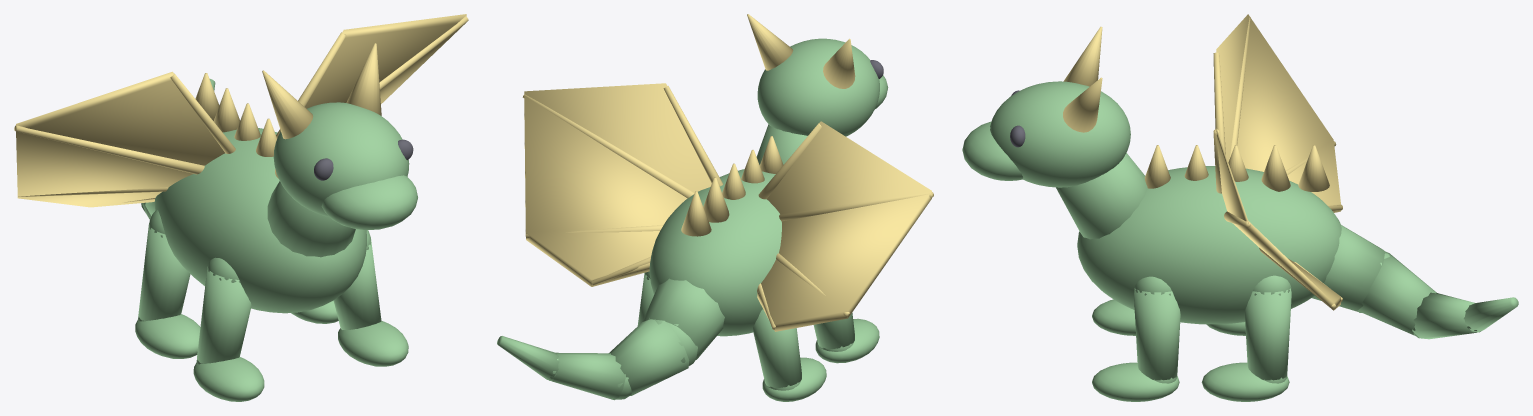
Rendered from dragon_western.glb.
The picture shows the model from 3 angles, left to right: view 1: azimuth 30°, elevation 25°; view 2: azimuth 150°, elevation 25°; view 3: azimuth 270°, elevation 25°; orthographic projection. The views are drawn at different scales.
Parts seen in each view (by area): view 1: dragon_body_000, wing_membrane_021, head_004, wing_membrane_034, leg_013, muzzle_005, neck_001, leg_017, foot_016, foot_029, leg_026, foot_020 (+13 smaller); view 2: wing_membrane_034, wing_membrane_021, dragon_body_000, head_004, tail_007, tail_006, leg_017, tail_009, tail_011, foot_016, foot_020, horn_046 (+16 smaller); view 3: dragon_body_000, wing_membrane_021, head_004, neck_001, leg_030, leg_026, tail_007, tail_006, wing_membrane_034, foot_033, foot_029, tail_009 (+13 smaller).
Boxes of the visible parts, x1,y1,x2,y2 form: dragon_body_000: (154, 128, 366, 313); wing_membrane_021: (16, 71, 224, 207); head_004: (273, 102, 409, 216); wing_membrane_034: (305, 14, 466, 108); leg_013: (197, 266, 251, 363); muzzle_005: (321, 175, 417, 229); neck_001: (267, 181, 355, 257); leg_017: (138, 223, 190, 321); foot_016: (193, 357, 264, 401); foot_029: (338, 321, 408, 366); leg_026: (333, 237, 381, 330); foot_020: (135, 314, 200, 358); wing_membrane_034: (524, 83, 711, 286); wing_membrane_021: (757, 121, 931, 331); dragon_body_000: (649, 169, 781, 336); head_004: (757, 38, 879, 136); tail_007: (609, 319, 689, 395); tail_006: (642, 278, 724, 360); leg_017: (752, 309, 801, 387); tail_009: (551, 352, 625, 400); tail_011: (497, 336, 559, 379); foot_016: (815, 318, 879, 363); foot_020: (762, 357, 826, 401); horn_046: (747, 14, 793, 70); dragon_body_000: (1077, 166, 1341, 324); wing_membrane_021: (1216, 14, 1340, 212); head_004: (990, 81, 1130, 187); neck_001: (1056, 153, 1147, 239); leg_030: (1244, 288, 1291, 380); leg_026: (1134, 288, 1180, 380); tail_007: (1357, 251, 1436, 335); tail_006: (1312, 225, 1384, 311); wing_membrane_034: (1216, 128, 1340, 310); foot_033: (1201, 362, 1289, 401); foot_029: (1092, 362, 1179, 401); tail_009: (1412, 292, 1476, 339).
Bounding box in the file's own units: 2.01 × 1.41 × 2.28.
